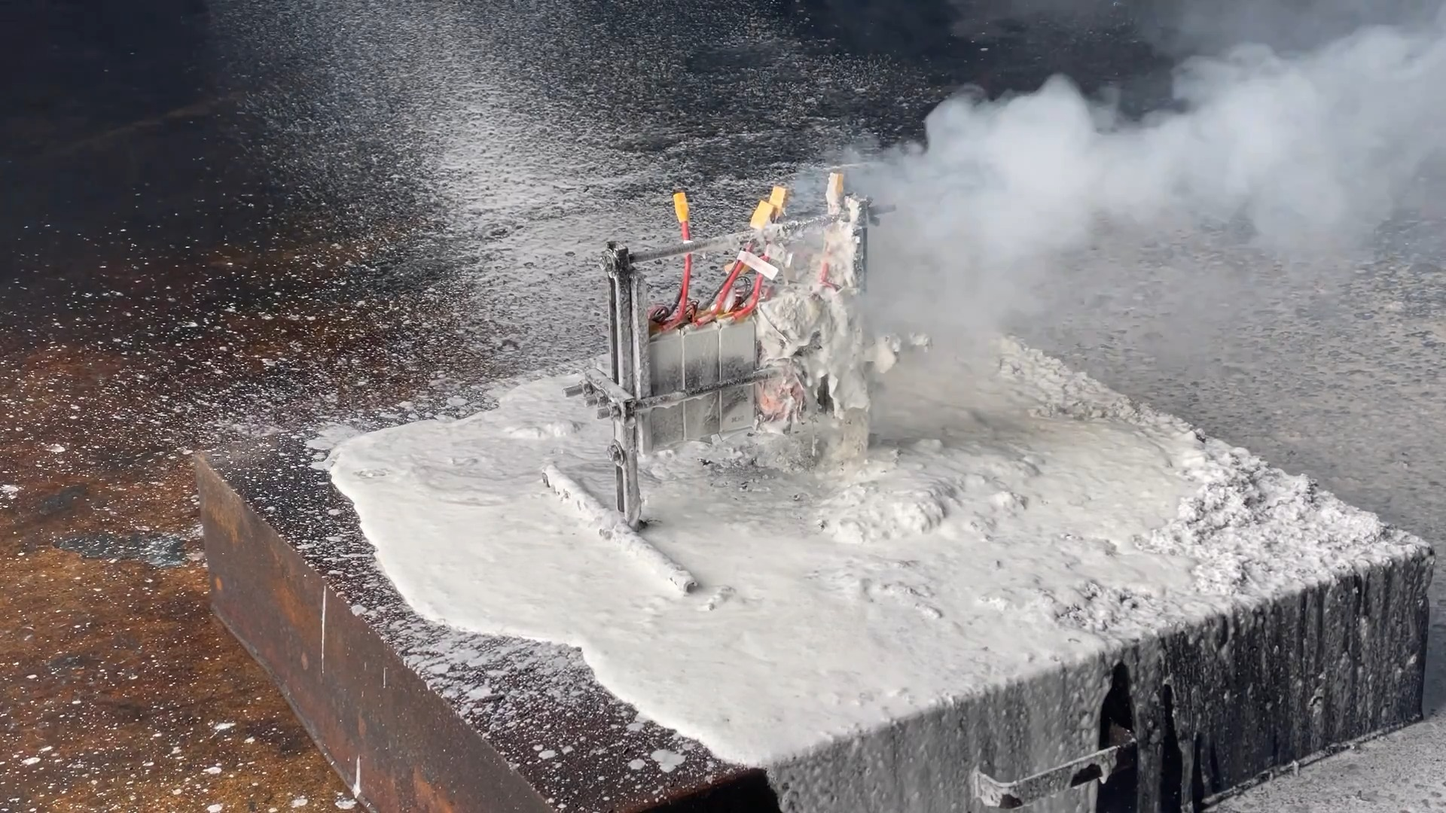smoke: (821, 1, 1445, 376)
